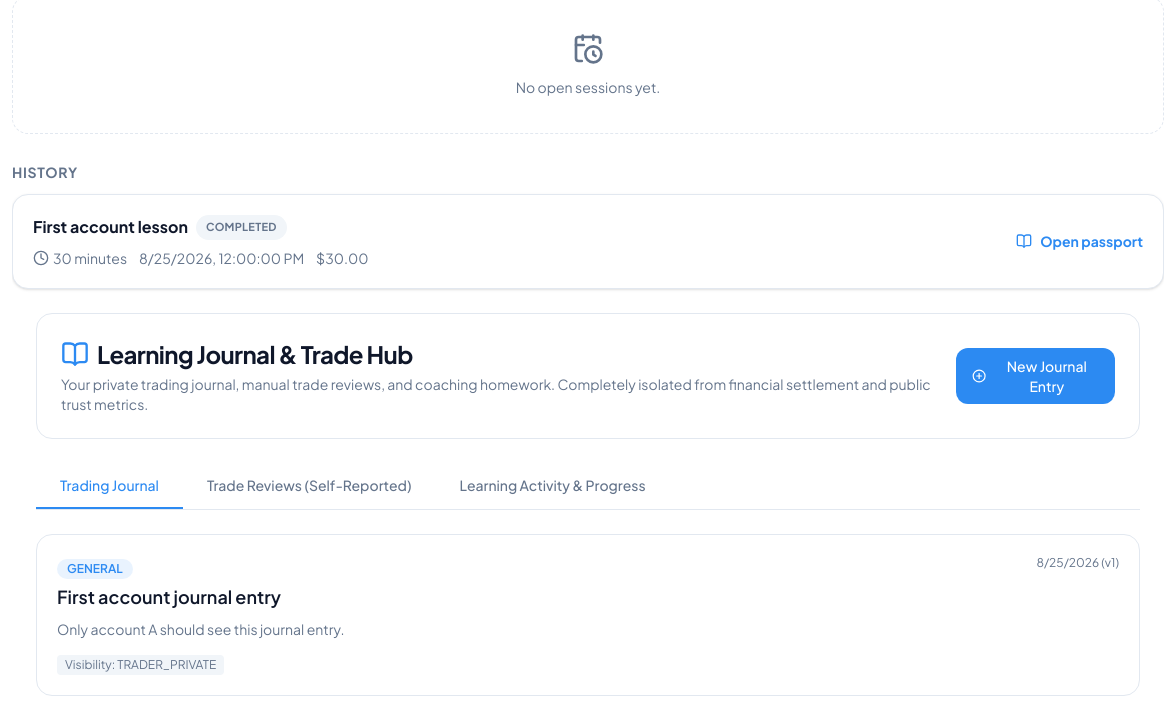
Test: real-account switching isolation › clears session history, passports, journal entries, and trade reviews across a delayed account switch
(page scrolled)
Expected: the text "First account lesson" is shown, top-left (33, 215), bottom-right (188, 239)
Expected: the heading "First account journal entry" is shown, top-left (57, 582), bottom-right (281, 610)
What coordinates should you click on to do the following:
click the button "Trade Reviews (Self-Reported)"
I would click on:
 (309, 486)
Its box is top-left (183, 462), bottom-right (436, 508).
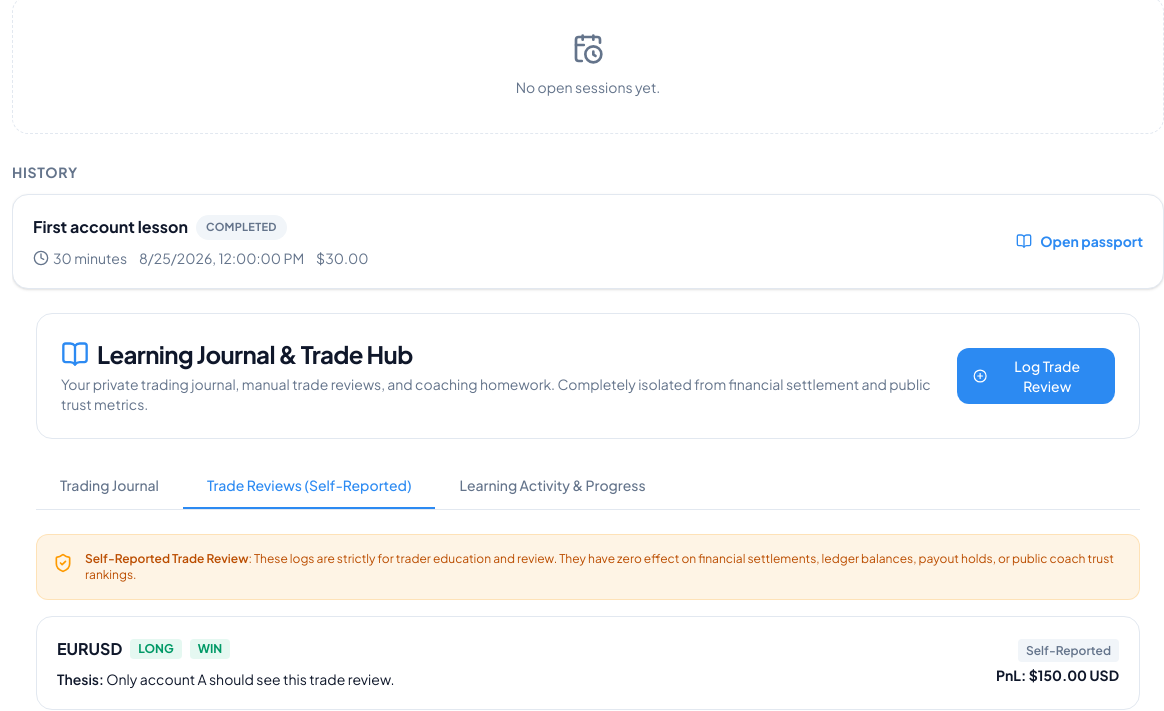
Expected: the text "Only account A should see this trade review." is shown, top-left (106, 670), bottom-right (395, 688)
What coordinates should you click on to do the following:
click the button "Trading Journal"
I would click on:
 (110, 486)
Its box is top-left (36, 462), bottom-right (183, 508).
(page scrolled)
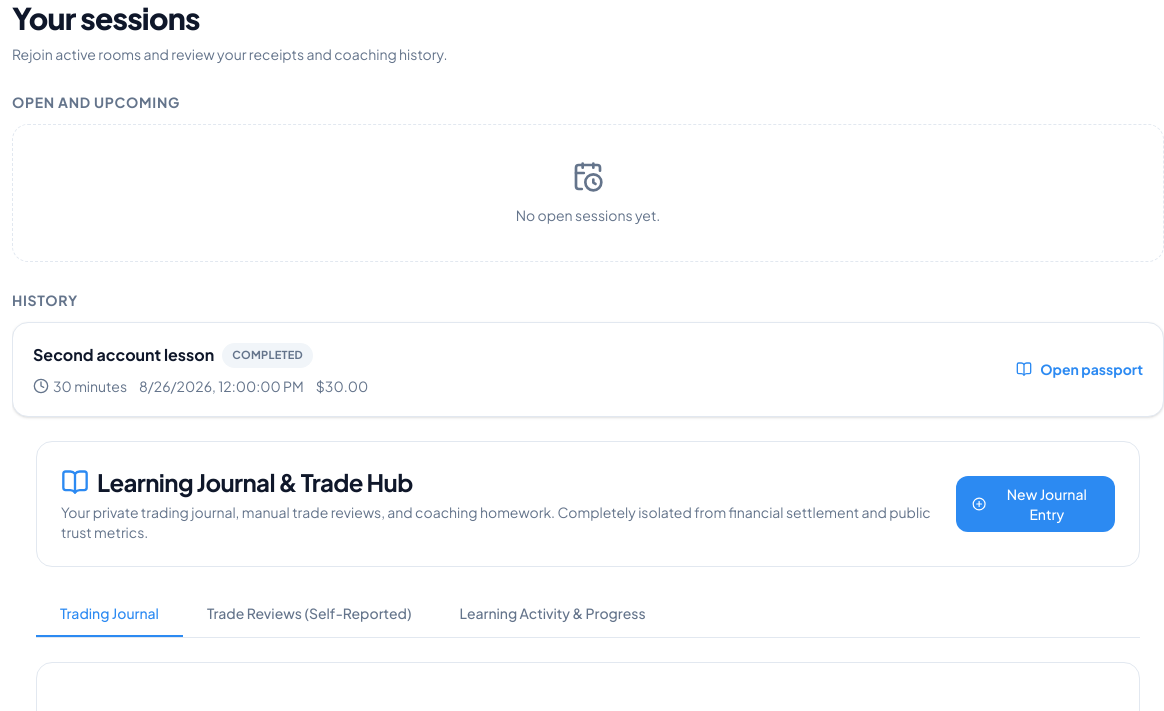
Expected: the text "Second account lesson" is shown, top-left (33, 343), bottom-right (214, 367)
Expected: the link "First account lesson" is gone
Expected: the text "Only account A should see this trade review." is gone
What coordinates should you click on to do the following:
click the button "Trade Reviews (Self-Reported)"
I would click on:
 (309, 614)
Its box is top-left (183, 590), bottom-right (436, 636).
(page scrolled)
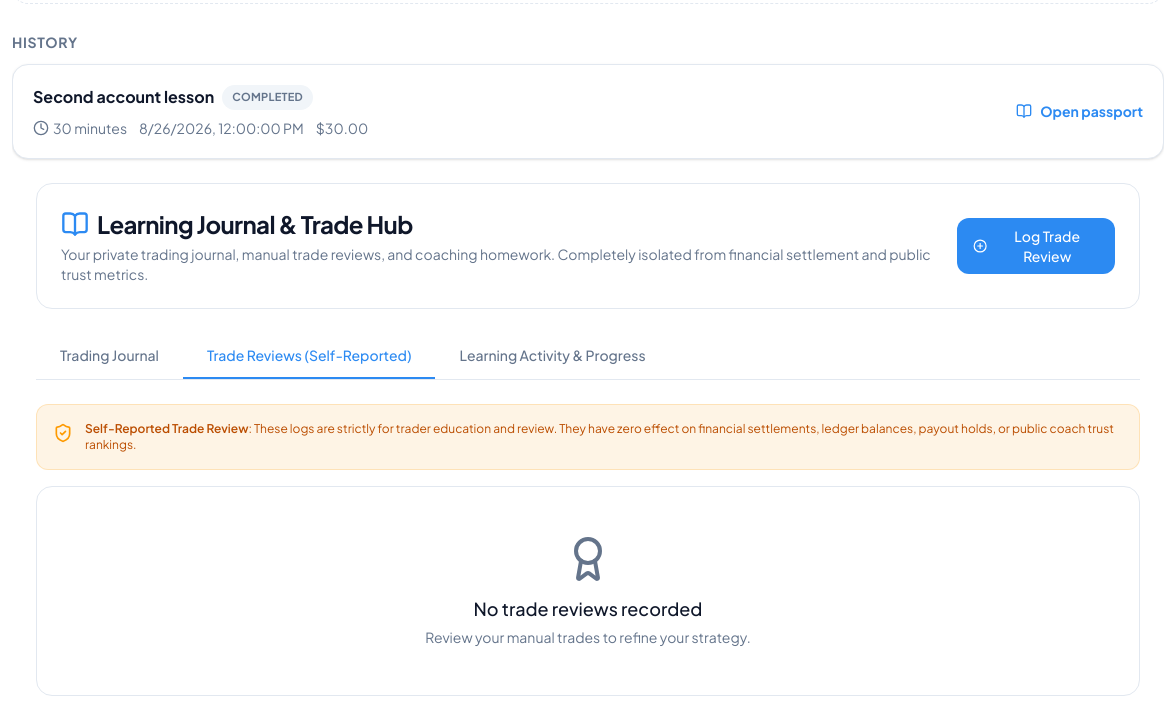
Expected: the heading "First account journal entry" is not shown
Expected: the heading "No trade reviews recorded" is shown, top-left (474, 596), bottom-right (702, 620)
